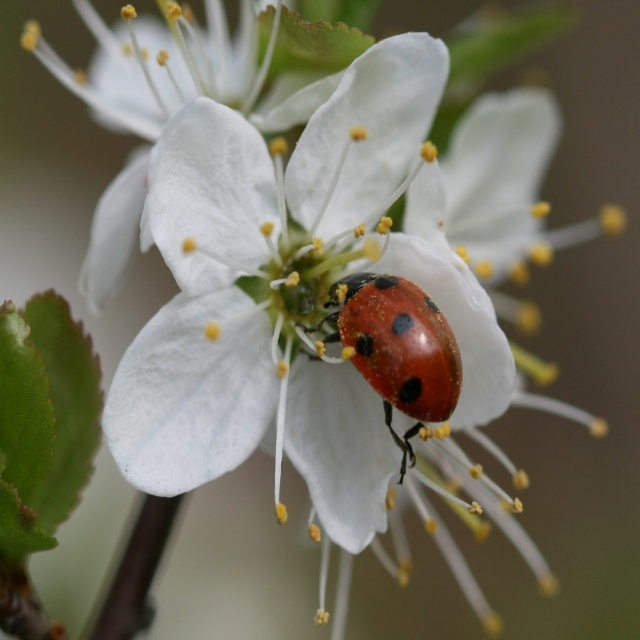Ladybug: (298, 271, 463, 486)
